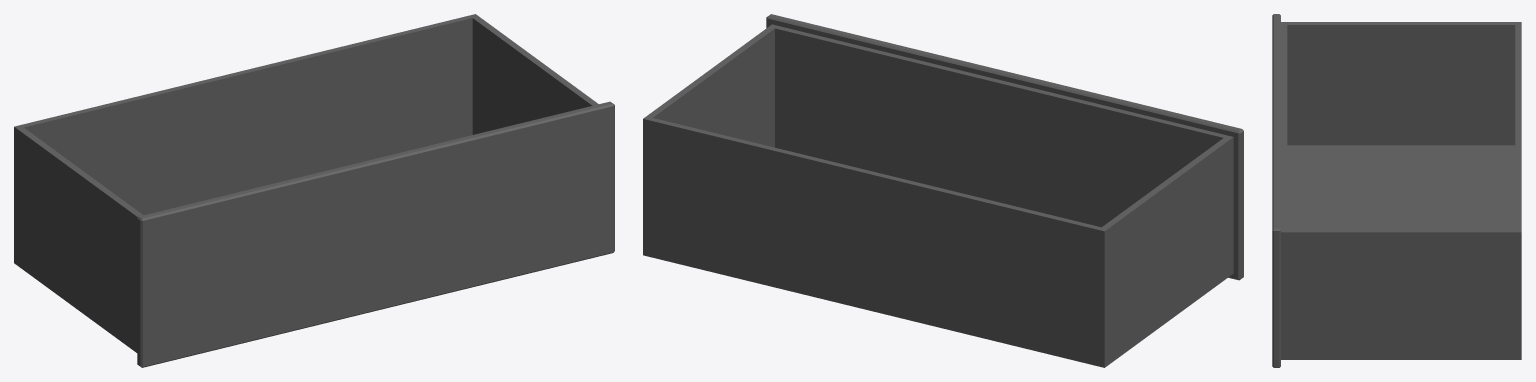
File: Desk_308_2_1_DrawerMesh_01.obj
The picture shows the model from 3 angles, left to right: view 1: azimuth 30°, elevation 25°; view 2: azimuth 150°, elevation 25°; view 3: azimuth 270°, elevation 25°; orthographic projection. The views are drawn at different scales.
Size of the model in its own units: 0.679 by 0.2041 by 0.3314.
1 material, 1 textured.
